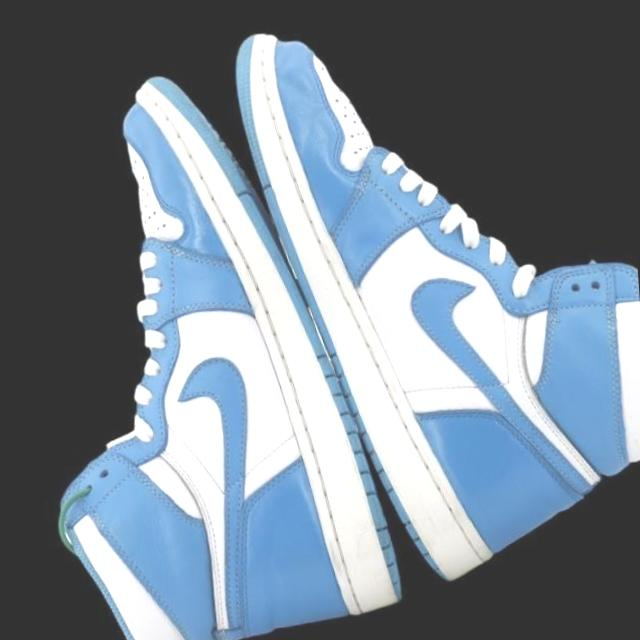nike_original_jordan: (0, 9, 432, 640), (204, 0, 640, 619)
